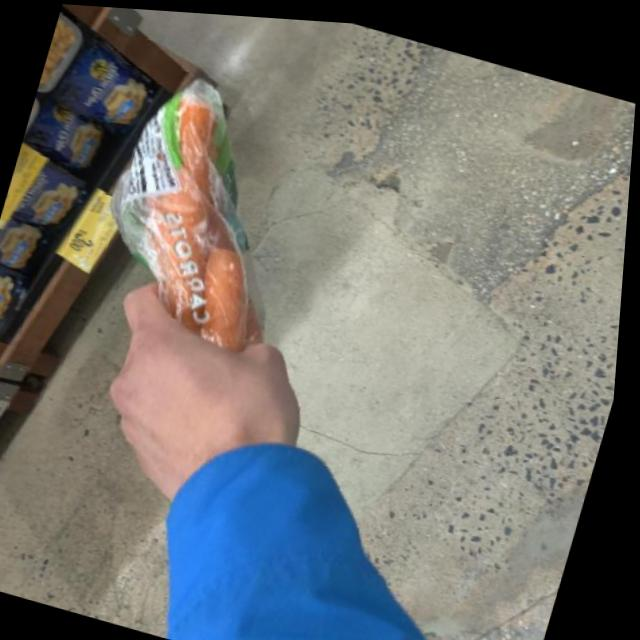Carrots: (37, 40, 370, 511)
